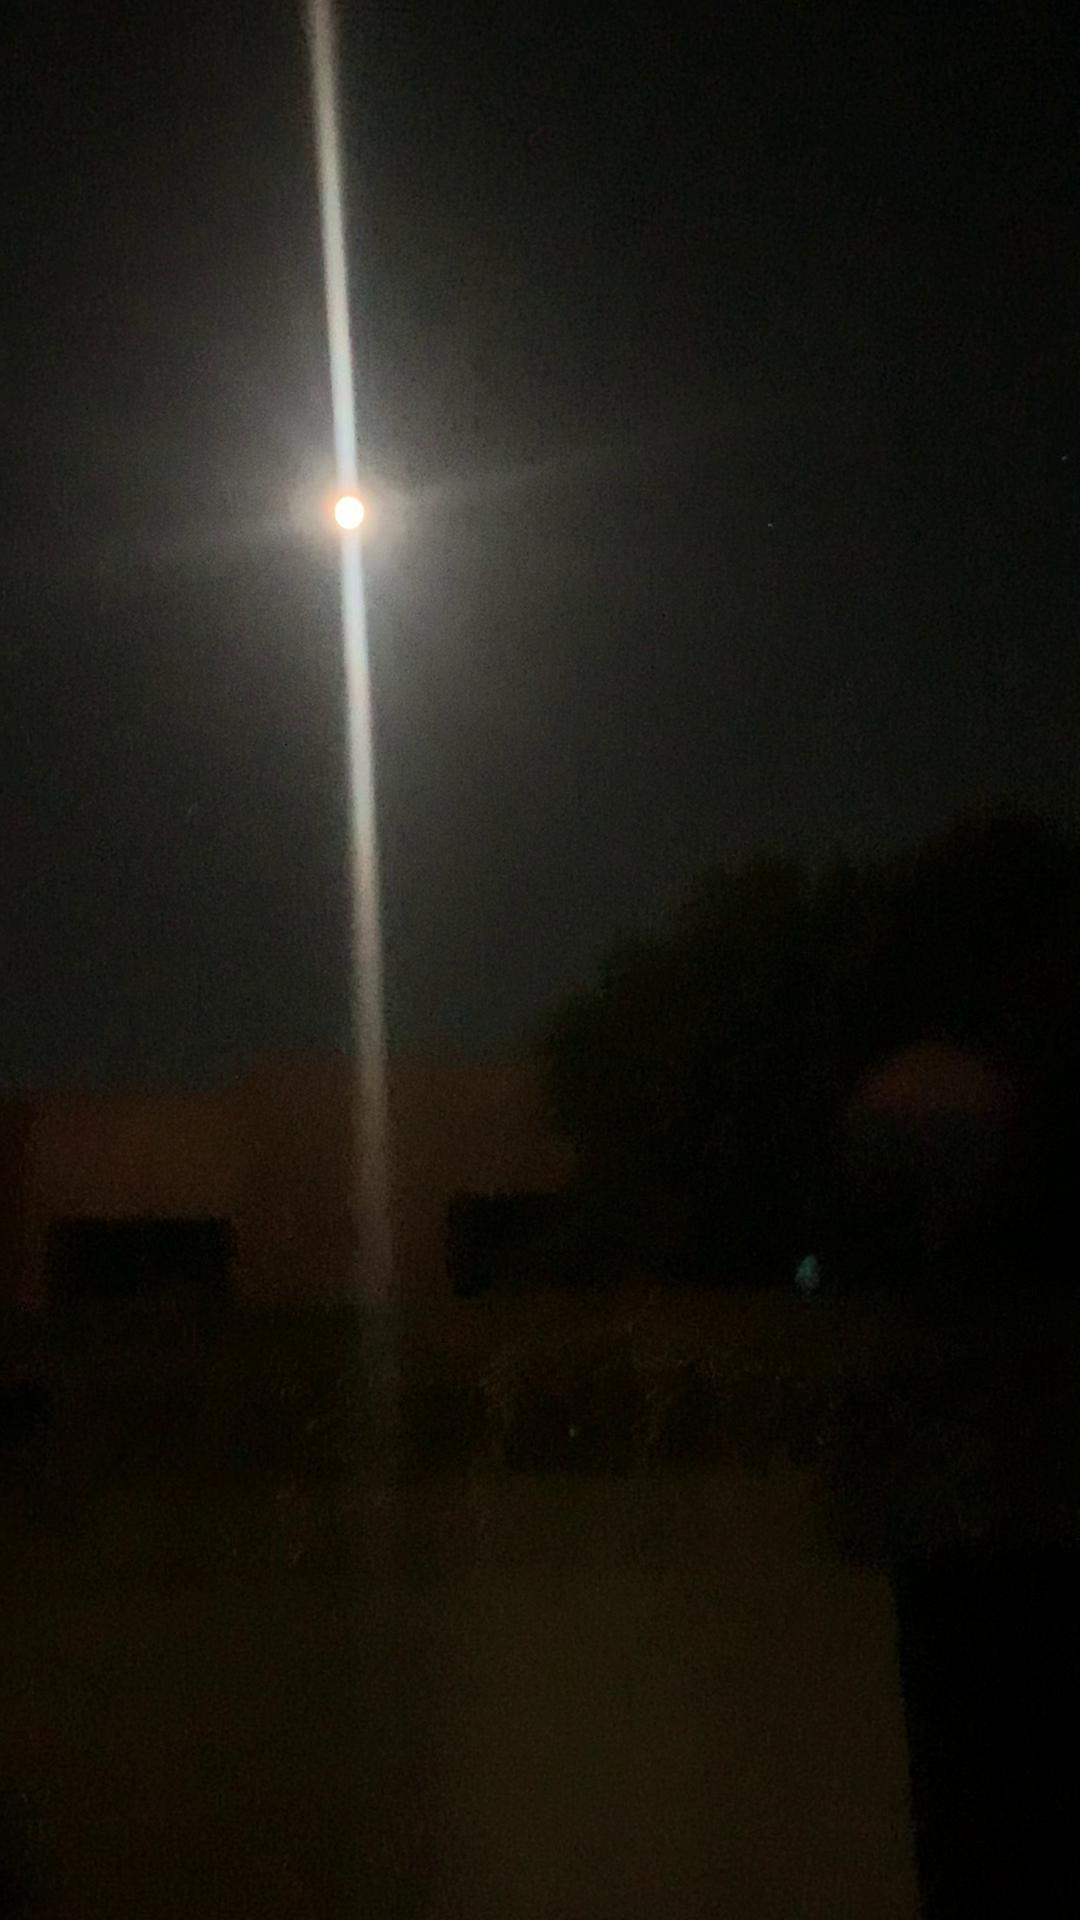moon: (295, 460, 401, 559)
